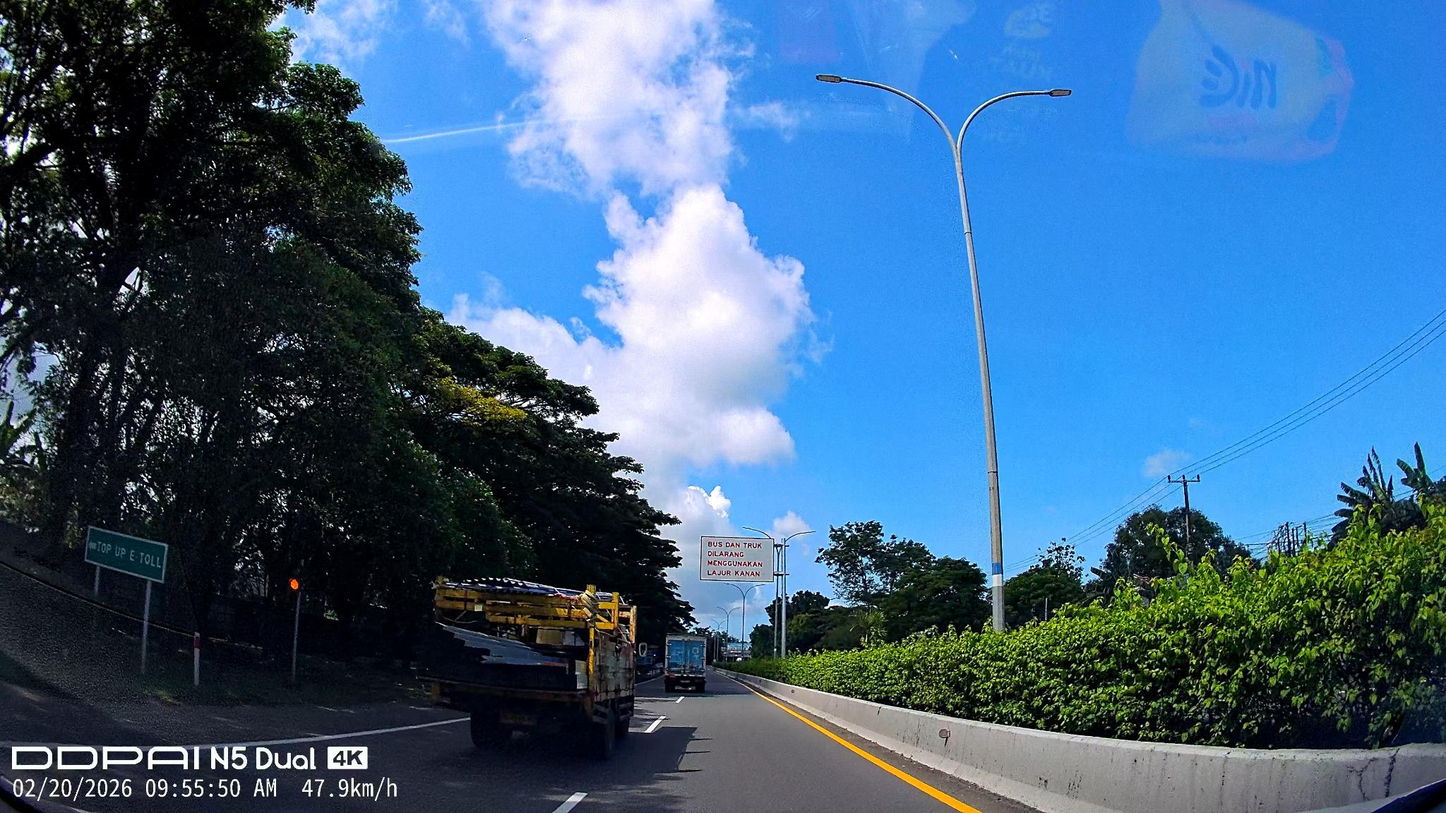rambu_teks: (699, 536, 774, 583)
